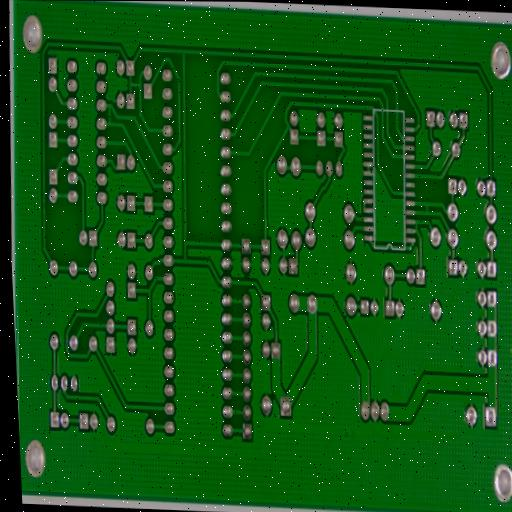short_circuit: (101, 101, 117, 129), (128, 73, 142, 96), (422, 198, 433, 219), (411, 219, 421, 239)
